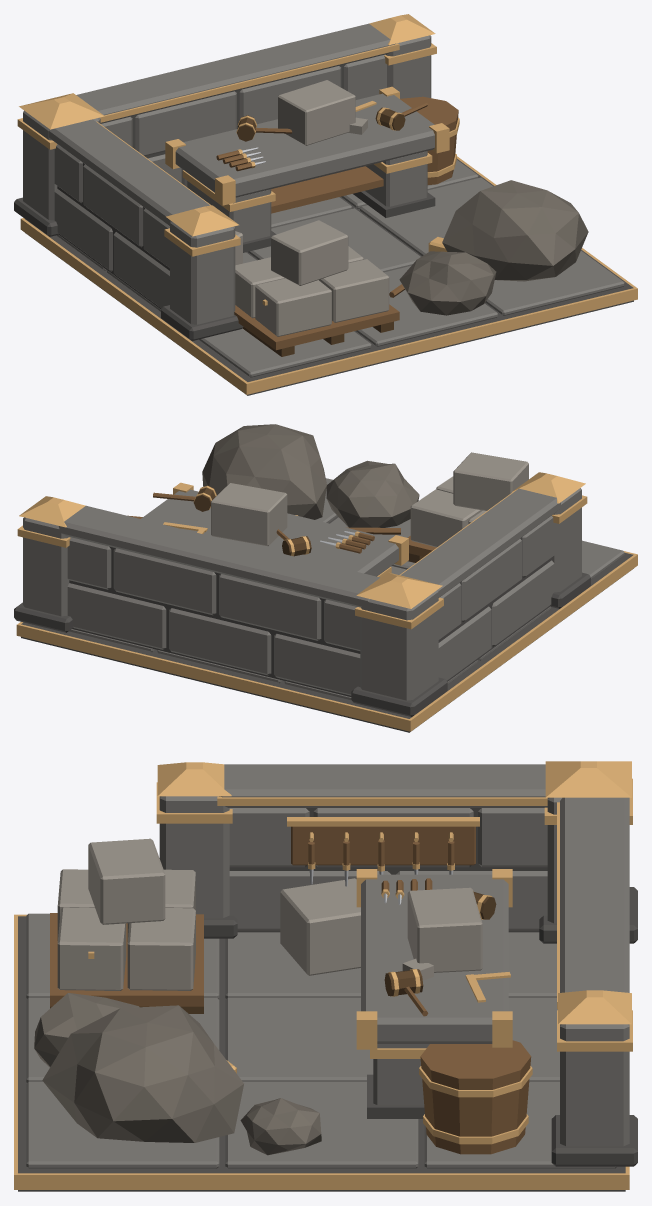
Rendered from mason-t2.glb.
The picture shows the model from 3 angles, top to bottom: view 1: azimuth 30°, elevation 25°; view 2: azimuth 150°, elevation 25°; view 3: azimuth 270°, elevation 25°; orthographic projection. The views are drawn at different scales.
Visible parts, largest first — view 1: bench_top, boulder_large, wall_back_cap, wall_left_cap, pillar_left_end, trim_front, boulder_medium, floor_base, wall_back_block_11, floor_tile_20, cut_block_4, work_block (+35 smaller); view 2: wall_back_cap, boulder_large, pillar_corner, wall_left_cap, bench_top, trim_back, boulder_medium, wall_back_block_01, wall_back_block_12, wall_back_block_11, wall_back_block_02, work_block (+27 smaller); view 3: boulder_large, bench_top, wall_back_cap, wall_left_cap, floor_tile_11, water_tub, floor_tile_21, trim_right, floor_base, floor_tile_20, pillar_back_end, cut_block_floor (+40 smaller).
Part boxes in pixels (x1=…): bench_top: x1=175, y1=93, x2=434, y2=197; boulder_large: x1=442, y1=180, x2=588, y2=281; wall_back_cap: x1=76, y1=23, x2=395, y2=123; wall_left_cap: x1=49, y1=119, x2=209, y2=225; pillar_left_end: x1=170, y1=222, x2=235, y2=324; trim_front: x1=245, y1=287, x2=637, y2=394; boulder_medium: x1=399, y1=251, x2=496, y2=315; floor_base: x1=25, y1=159, x2=633, y2=395; wall_back_block_11: x1=135, y1=91, x2=236, y2=156; floor_tile_20: x1=485, y1=251, x2=624, y2=315; cut_block_4: x1=271, y1=220, x2=348, y2=285; work_block: x1=278, y1=80, x2=355, y2=145; wall_back_cap: x1=58, y1=505, x2=380, y2=607; boulder_large: x1=202, y1=424, x2=326, y2=519; pillar_corner: x1=360, y1=590, x2=438, y2=700; wall_left_cap: x1=401, y1=488, x2=560, y2=597; bench_top: x1=141, y1=489, x2=398, y2=576; trim_back: x1=16, y1=623, x2=411, y2=731; boulder_medium: x1=326, y1=460, x2=419, y2=527; wall_back_block_01: x1=169, y1=608, x2=271, y2=675; wall_back_block_12: x1=113, y1=548, x2=216, y2=615; wall_back_block_11: x1=219, y1=574, x2=321, y2=640; wall_back_block_02: x1=67, y1=583, x2=166, y2=649; work_block: x1=211, y1=483, x2=287, y2=546; boulder_large: x1=42, y1=1005, x2=243, y2=1142; bench_top: x1=361, y1=874, x2=508, y2=1043; wall_back_cap: x1=560, y1=797, x2=629, y2=992; wall_left_cap: x1=219, y1=764, x2=547, y2=807; floor_tile_11: x1=225, y1=997, x2=373, y2=1081; water_tub: x1=419, y1=1040, x2=532, y2=1154; floor_tile_21: x1=225, y1=1081, x2=418, y2=1168; trim_right: x1=18, y1=1173, x2=625, y2=1189; floor_base: x1=18, y1=916, x2=625, y2=1191; floor_tile_20: x1=26, y1=1081, x2=219, y2=1168; pillar_back_end: x1=560, y1=1024, x2=629, y2=1146; cut_block_floor: x1=280, y1=878, x2=360, y2=975.
Size of what is drawn, in the model's own units: 3.05 by 1 by 3.04.
